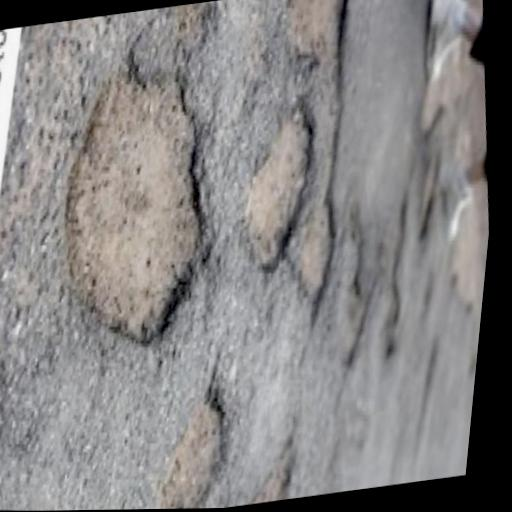pothole: (118, 95, 374, 354), (106, 198, 302, 512), (70, 188, 259, 483)
